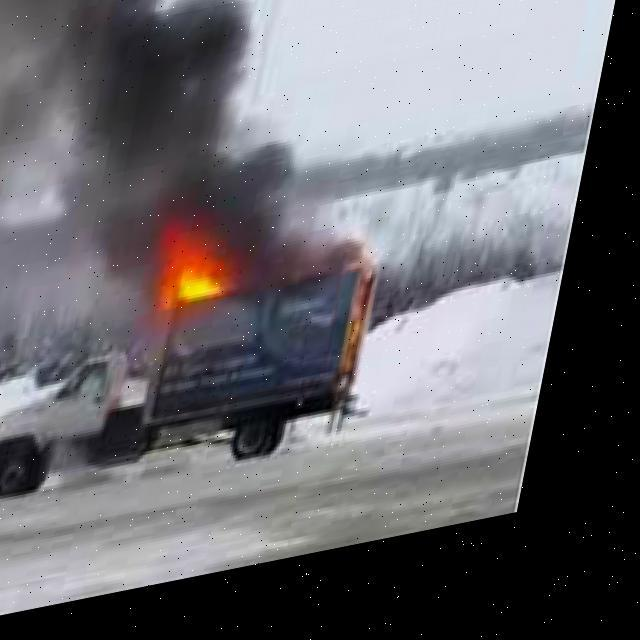Fire: (153, 210, 279, 336)
